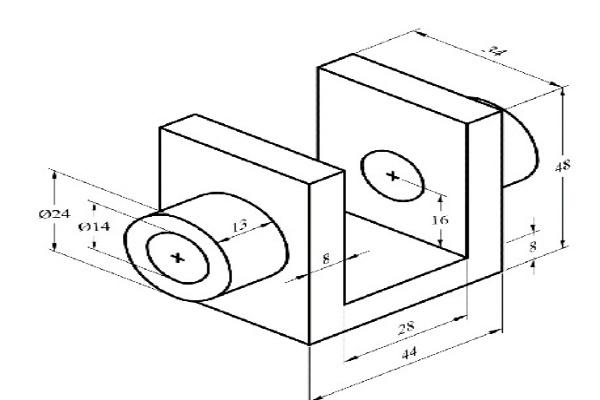dimensions: (71, 215, 112, 235), (394, 341, 422, 365), (478, 41, 511, 60), (428, 209, 455, 232), (35, 204, 71, 221), (395, 317, 418, 341), (314, 246, 336, 267), (553, 157, 576, 177), (226, 216, 252, 233), (525, 238, 542, 257)
